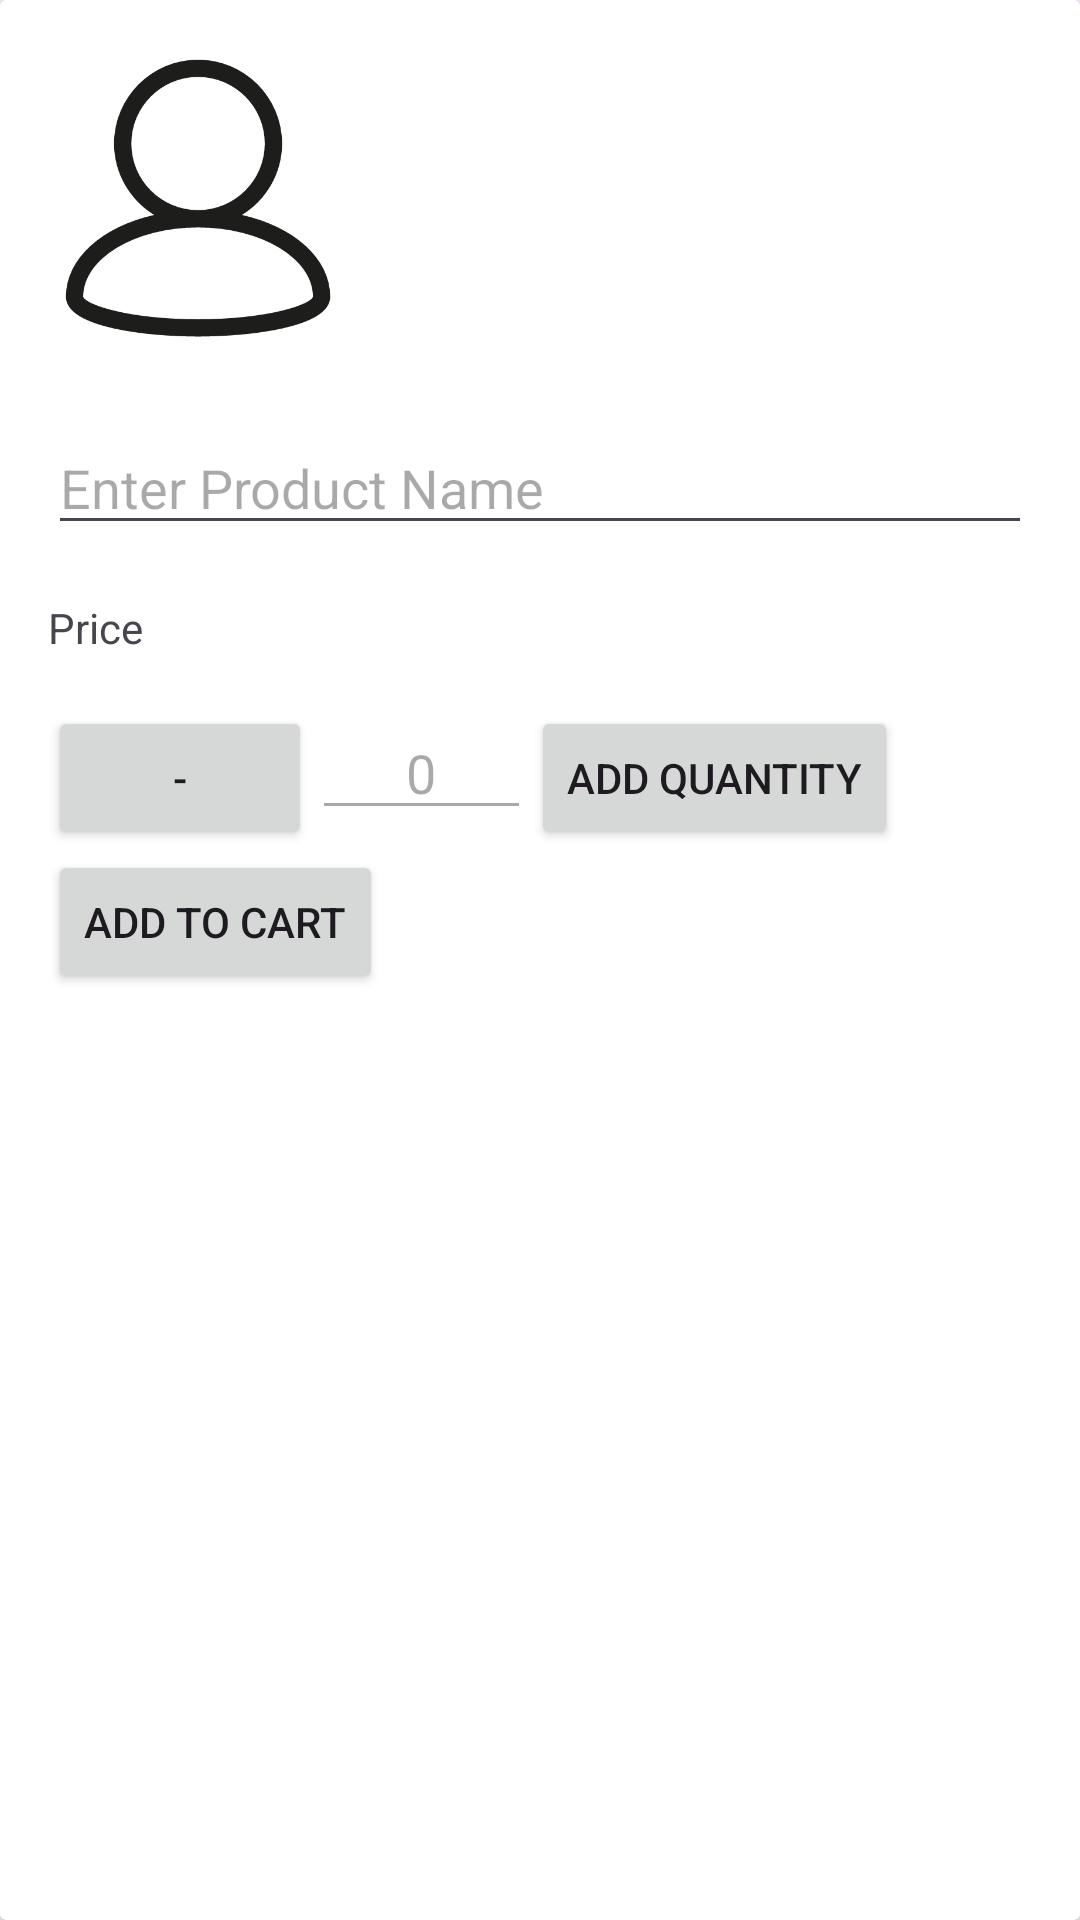

Locate icon controls on the screen. Image size 1080 x 1920, boxes as (x1, y1, x2, y2).
profile: (65, 59, 331, 337)
